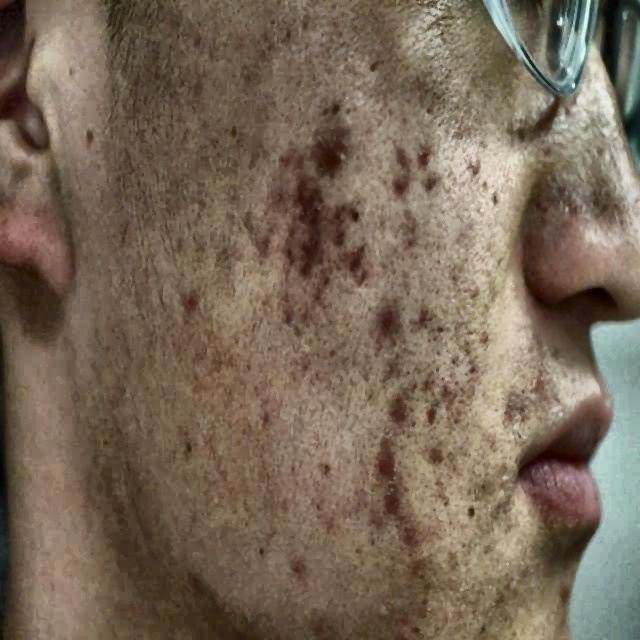pustule: (380, 476, 410, 530), (371, 434, 399, 477), (292, 177, 320, 219), (388, 157, 410, 203), (371, 304, 397, 341), (388, 389, 412, 429), (295, 228, 319, 266), (322, 130, 345, 168), (459, 152, 479, 192), (328, 208, 350, 244), (345, 244, 367, 278), (265, 175, 283, 213)
